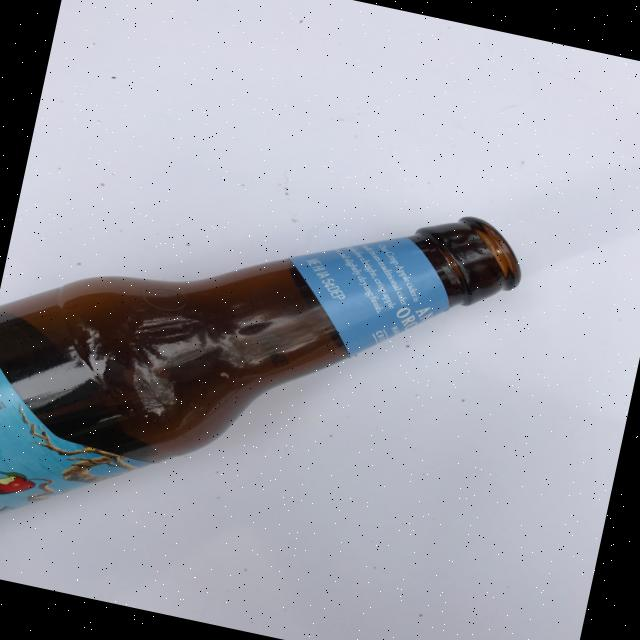glass: (0, 122, 531, 635)
